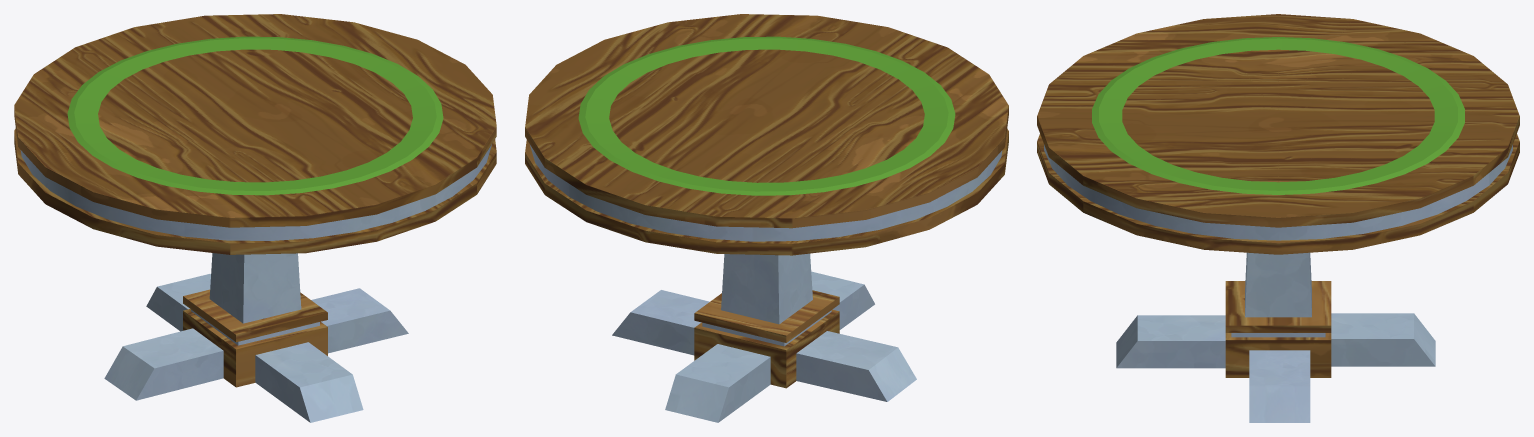
Rendered from PR_Table_T.fbx.
3 renders of one model, left to right at view 1: azimuth 30°, elevation 25°; view 2: azimuth 150°, elevation 25°; view 3: azimuth 270°, elevation 25°, orthographic.
Visible parts, largest first — view 1: PR_Table:Table; view 2: PR_Table:Table; view 3: PR_Table:Table.
Part boxes in pixels (x1,y1,x2,y2): PR_Table:Table: (14,14,496,422); PR_Table:Table: (525,14,1008,422); PR_Table:Table: (1037,14,1519,422).
Size of the model in its own units: 2.36 by 1.3 by 2.36.
